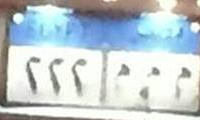2: (45, 56, 66, 98), (23, 52, 42, 96), (69, 56, 89, 97)
meem: (109, 62, 131, 104), (141, 62, 161, 99), (172, 65, 192, 100)
